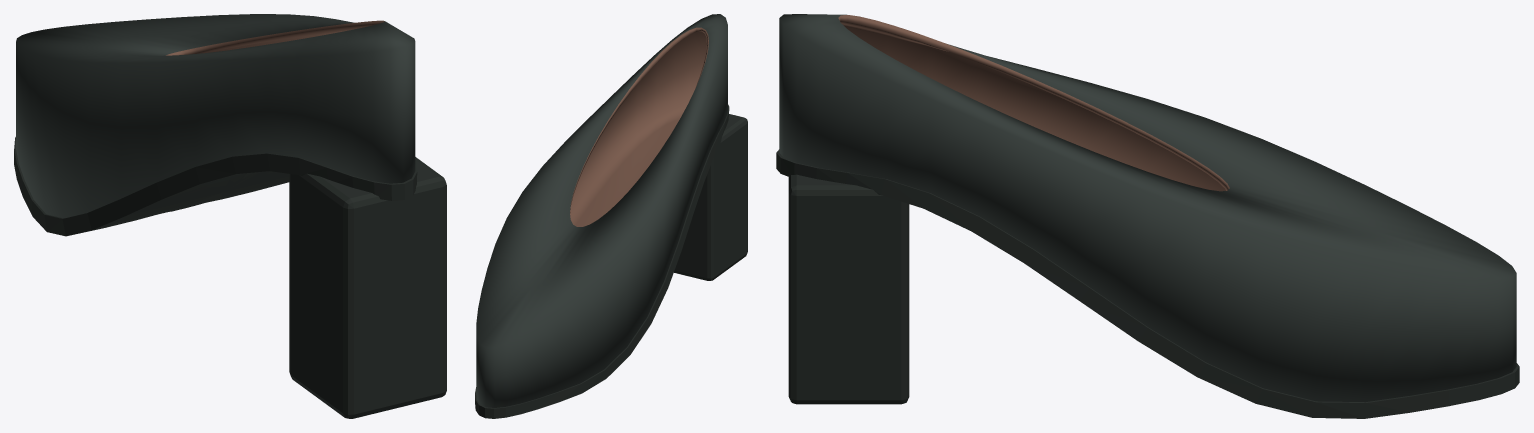
File: A-NEW-20261027-HIGH-HEEL-001_LOD2_R4.glb
The picture shows the model from 3 angles, left to right: view 1: azimuth 30°, elevation 25°; view 2: azimuth 150°, elevation 25°; view 3: azimuth 270°, elevation 25°; orthographic projection. The views are drawn at different scales.
Parts seen in each view (by area): view 1: complete hollow shoe upper, tall supporting block heel, continuous sloping arch outsole; view 2: complete hollow shoe upper, tall supporting block heel, continuous sloping arch outsole; view 3: complete hollow shoe upper, tall supporting block heel, continuous sloping arch outsole.
Boxes of the visible parts, left/top/right/bottom form: complete hollow shoe upper: left=16, top=14, right=415, bottom=218; tall supporting block heel: left=289, top=157, right=446, bottom=418; continuous sloping arch outsole: left=14, top=137, right=417, bottom=236; complete hollow shoe upper: left=476, top=14, right=727, bottom=407; tall supporting block heel: left=674, top=114, right=747, bottom=280; continuous sloping arch outsole: left=475, top=104, right=729, bottom=418; complete hollow shoe upper: left=779, top=14, right=1516, bottom=402; tall supporting block heel: left=788, top=174, right=909, bottom=404; continuous sloping arch outsole: left=776, top=149, right=1519, bottom=418.
Size of the model in its own units: 0.0861 by 0.15 by 0.2772.
